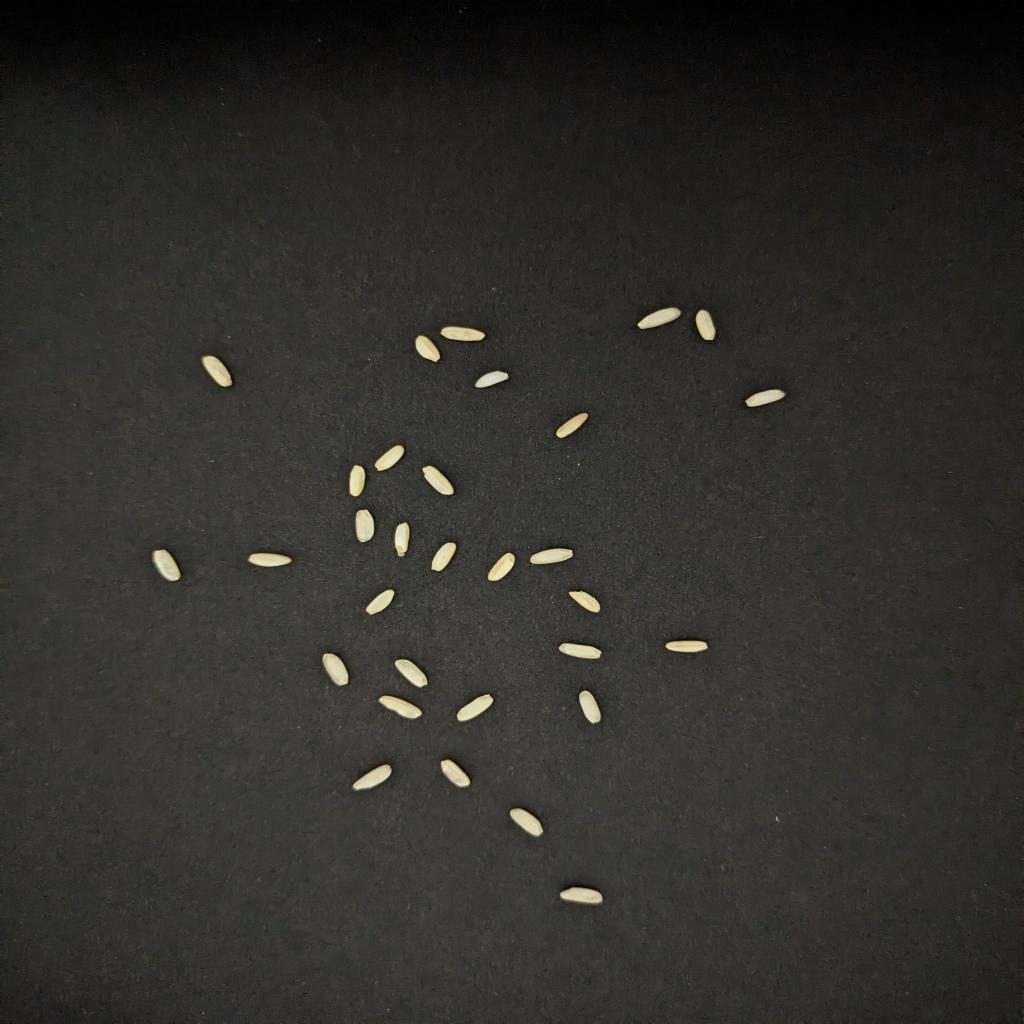chalky: (352, 764, 392, 790), (637, 308, 682, 330), (458, 694, 493, 722), (394, 658, 429, 686), (509, 808, 543, 836), (378, 696, 421, 718), (424, 466, 455, 496), (152, 550, 181, 582), (202, 356, 232, 386), (439, 760, 471, 788), (322, 654, 349, 686), (557, 412, 589, 438), (578, 690, 602, 724), (487, 552, 514, 582), (559, 886, 602, 904), (439, 326, 485, 342), (746, 390, 786, 408), (354, 510, 376, 542), (376, 446, 405, 470), (365, 590, 394, 614), (432, 542, 455, 572), (530, 548, 573, 564), (559, 642, 602, 658), (695, 310, 717, 340), (474, 370, 509, 388), (416, 336, 439, 362), (248, 552, 290, 566), (570, 592, 599, 612), (394, 522, 410, 556), (666, 640, 709, 652), (349, 466, 365, 496)
